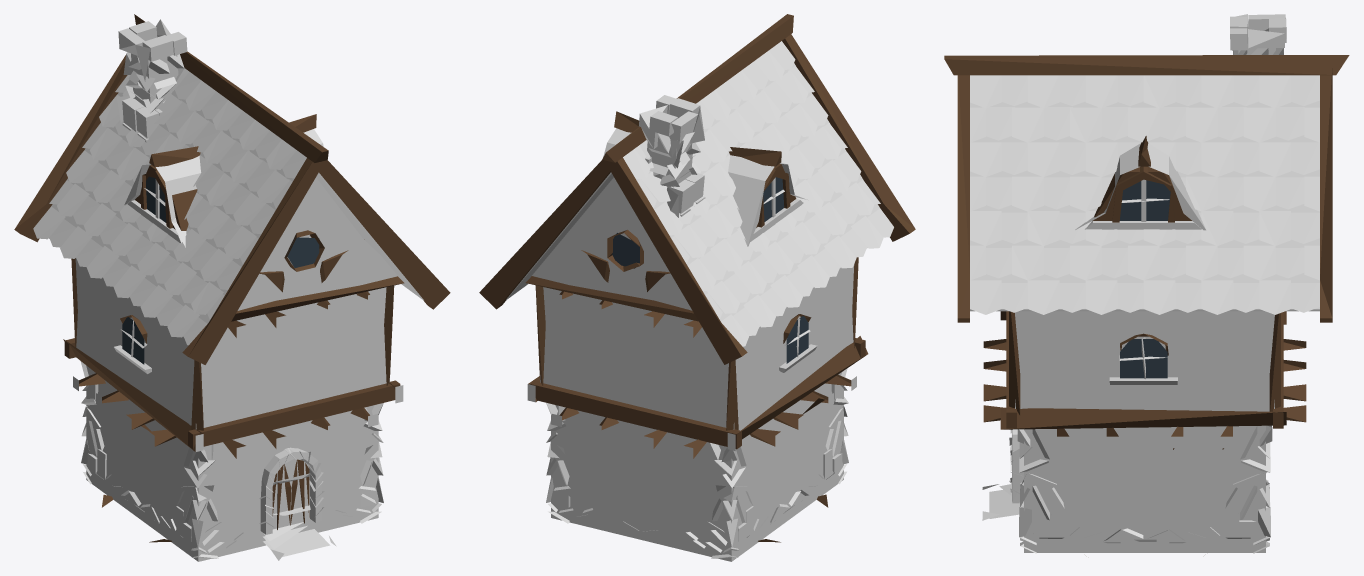
File: mv_house1.glb
3 views of the same model, side by side, from view 1: azimuth 30°, elevation 25°; view 2: azimuth 150°, elevation 25°; view 3: azimuth 270°, elevation 25° (orthographic). The views are drawn at different scales.
Visible parts, largest first — view 1: S_House_1; view 2: S_House_1; view 3: S_House_1.
Part boxes in pixels (left/top/right/bottom): S_House_1: left=14, top=14, right=450, bottom=561; S_House_1: left=479, top=14, right=915, bottom=561; S_House_1: left=944, top=14, right=1349, bottom=553.
Size of the model in its own units: 2.14 by 3.39 by 2.66.
